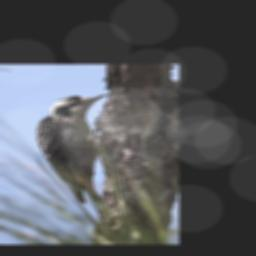Woodpecker: (29, 88, 115, 209)
